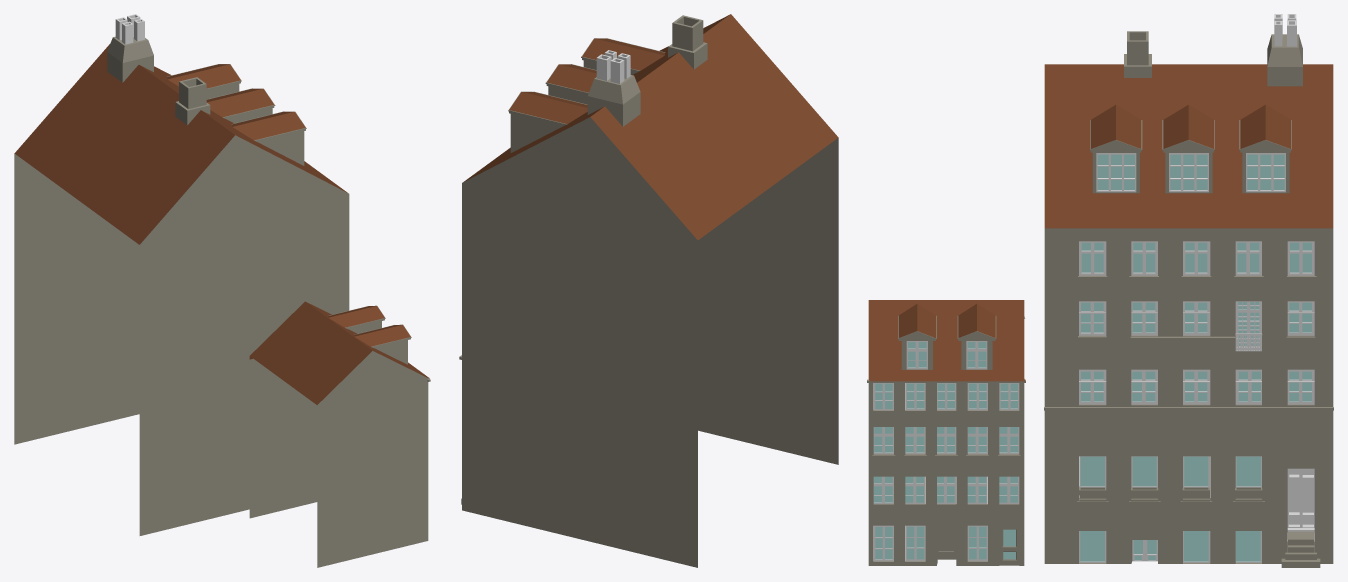
The model's file is Mesh_Building15+.fbx.
3 renders of one model, left to right at view 1: azimuth 30°, elevation 25°; view 2: azimuth 150°, elevation 25°; view 3: azimuth 270°, elevation 25°, orthographic. The views are drawn at different scales.
Visible parts, largest first — view 1: Plane.071, Cube.016; view 2: Plane.071; view 3: Plane.071, Cube.016.
Part boxes in pixels (x1,y1,x2,y2): Plane.071: (14,14,349,535); Cube.016: (249,301,430,567); Plane.071: (459,14,838,567); Plane.071: (1044,14,1333,567); Cube.016: (867,300,1025,565).
Bounding box in the file's own units: 1379 × 2548 × 2237.
